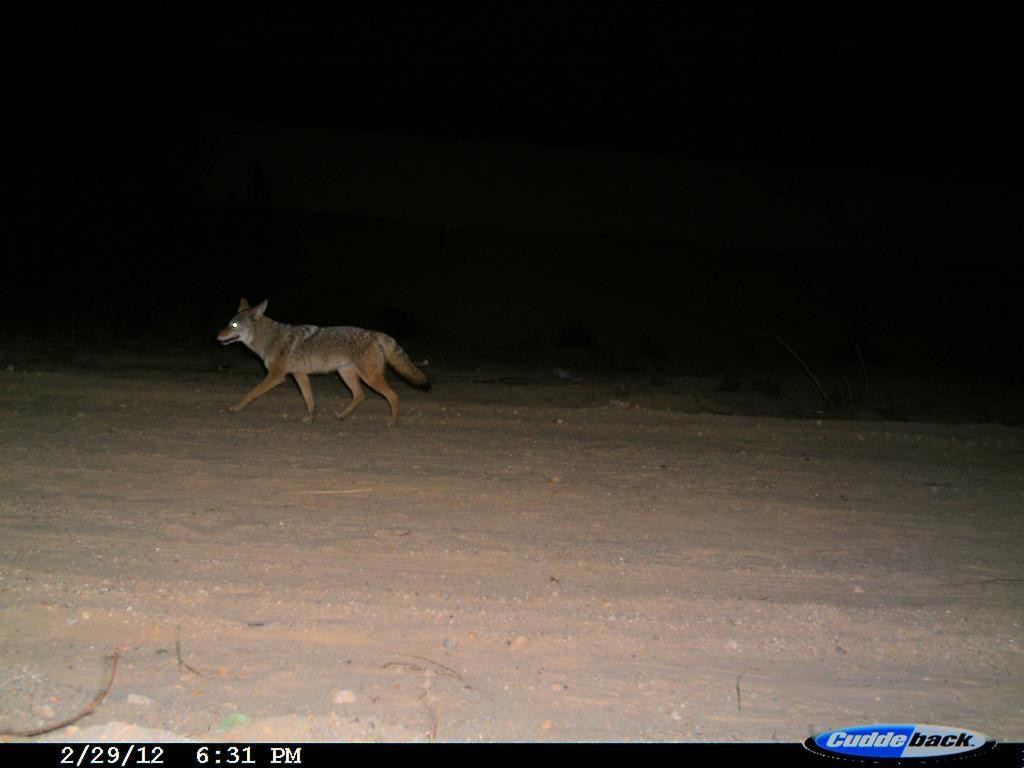coyote: (216, 291, 434, 431)
